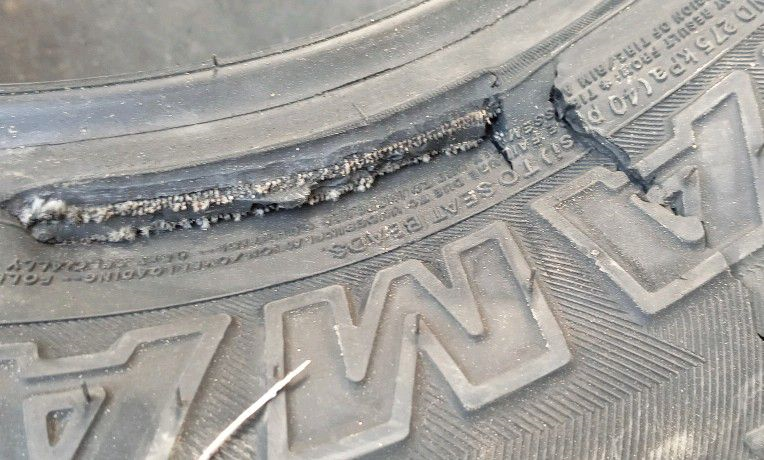cut: (0, 100, 515, 248), (546, 64, 763, 342)
